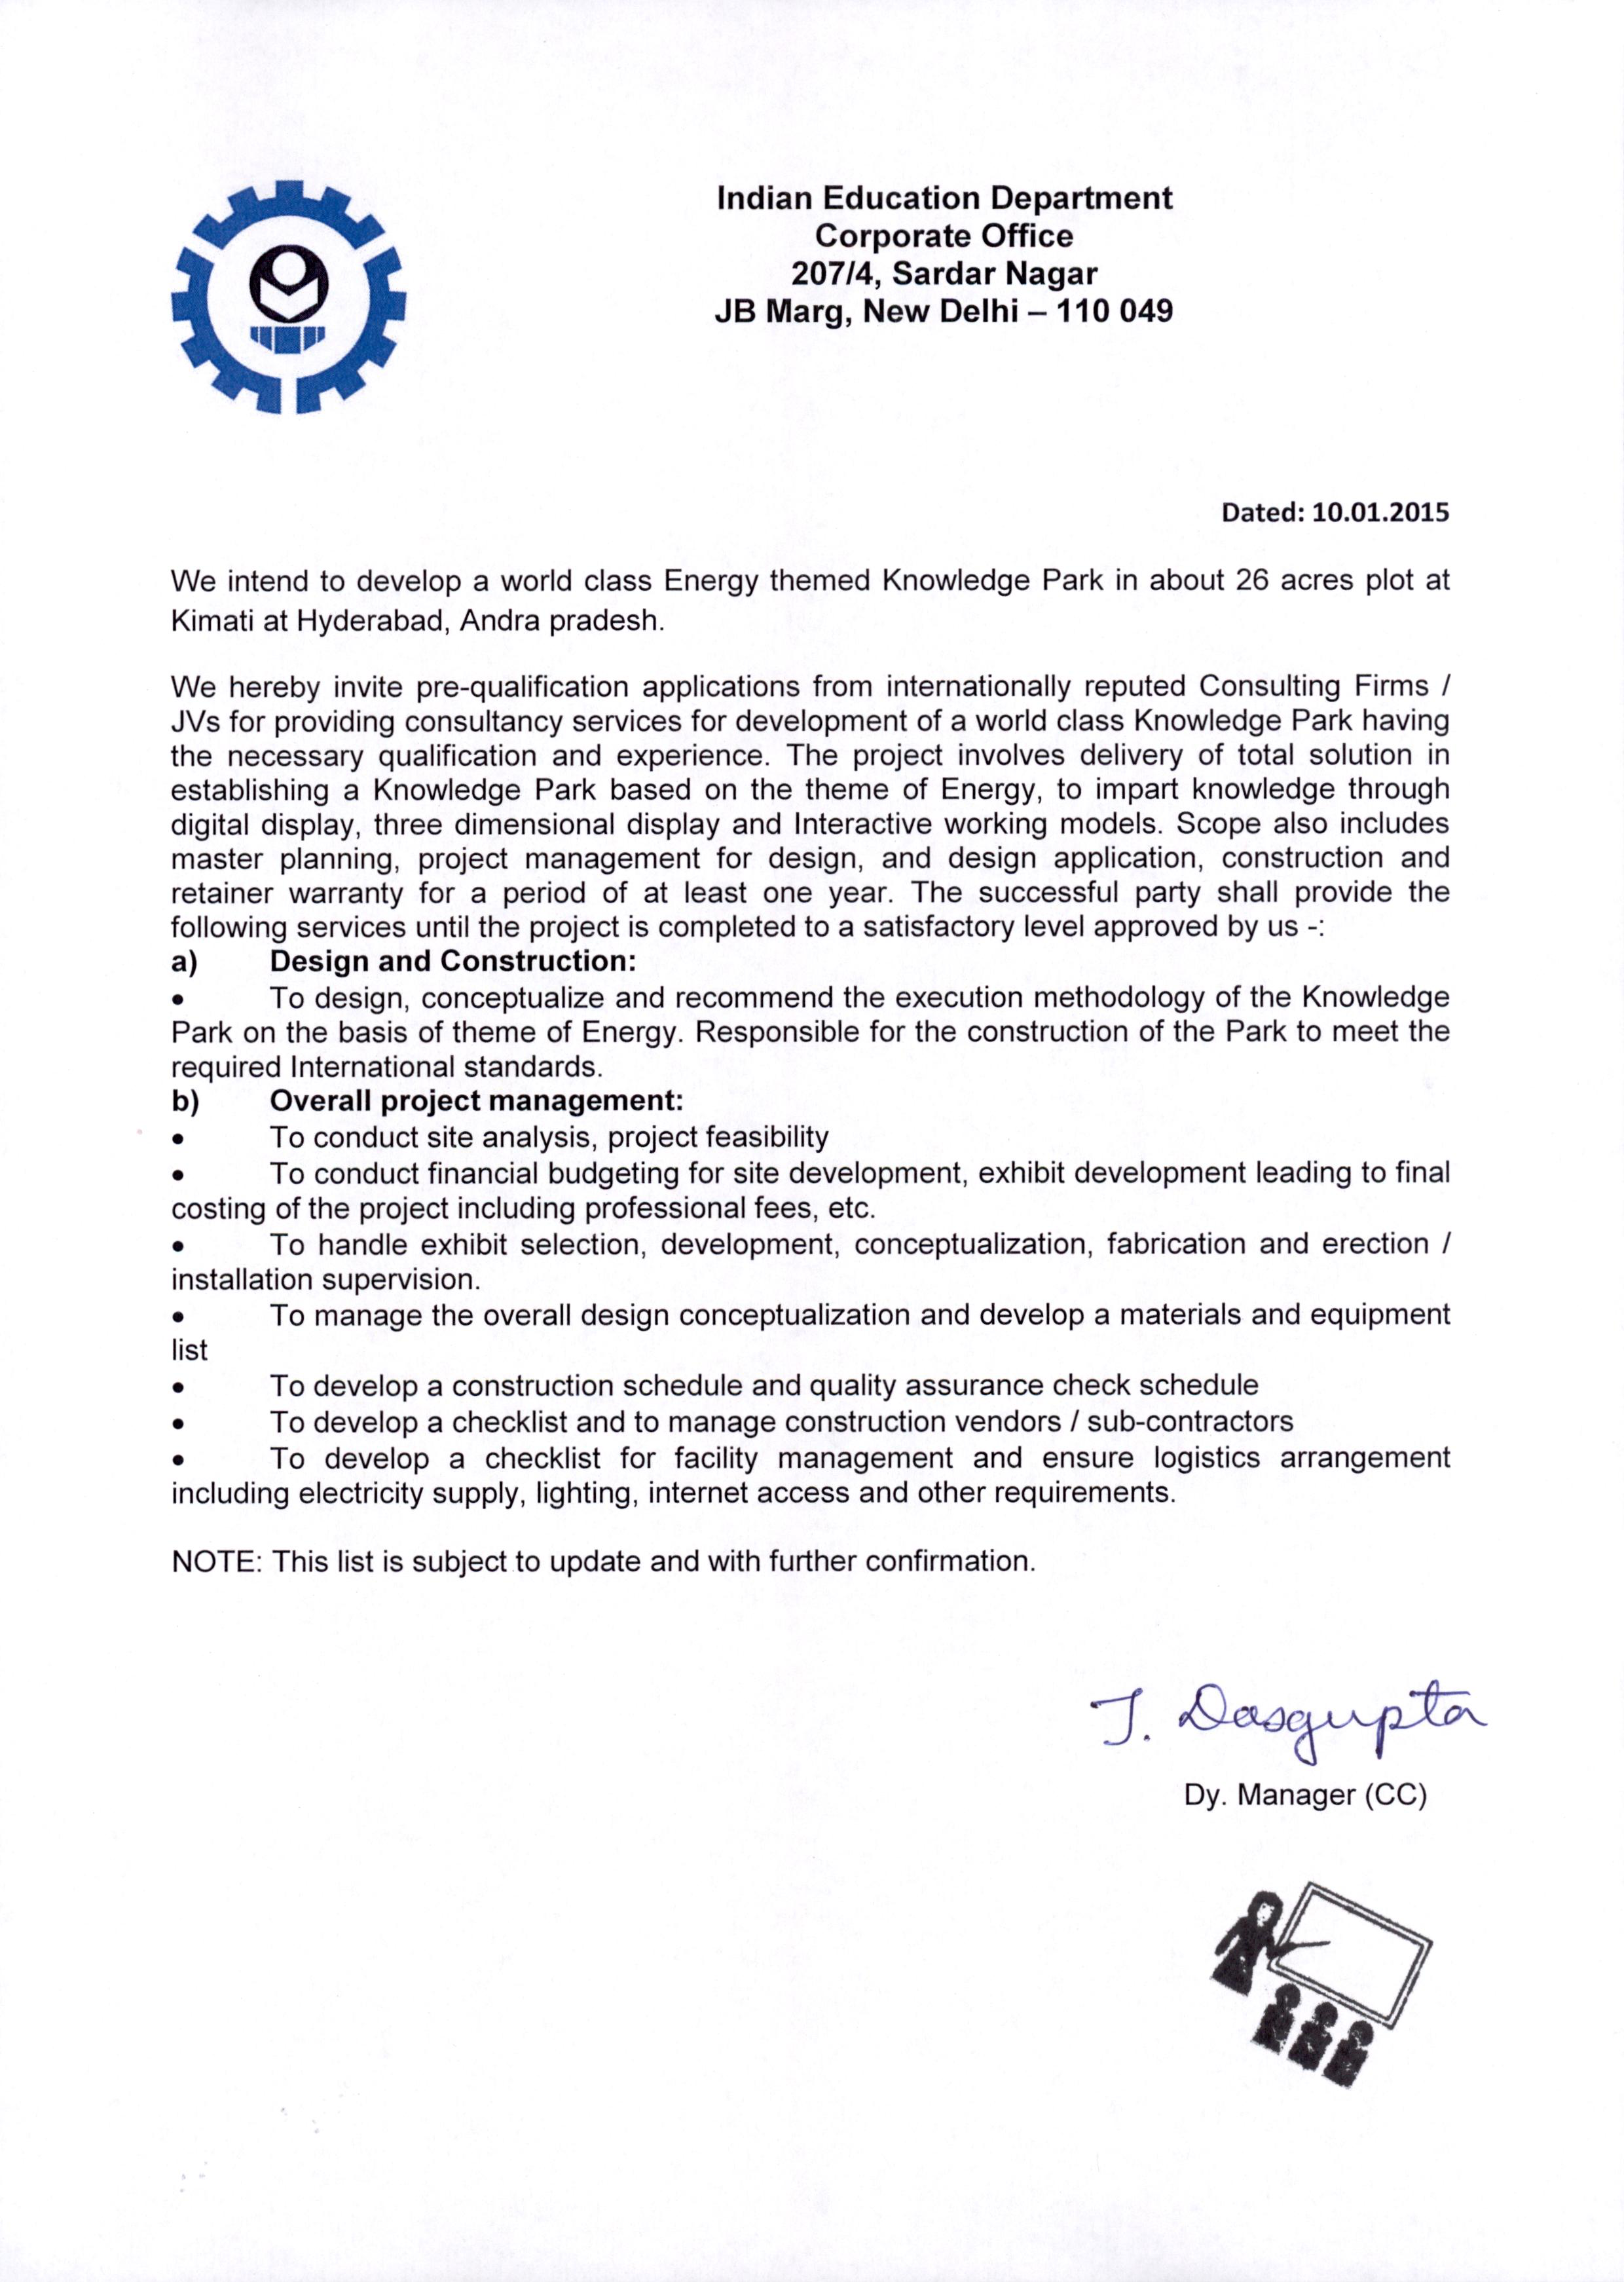Signature: (1079, 1667, 1499, 1770)
